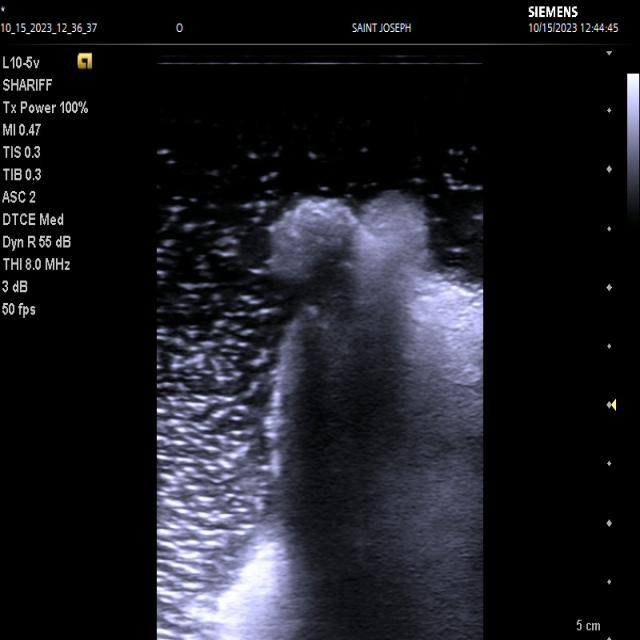tissue: (217, 192, 483, 640)
